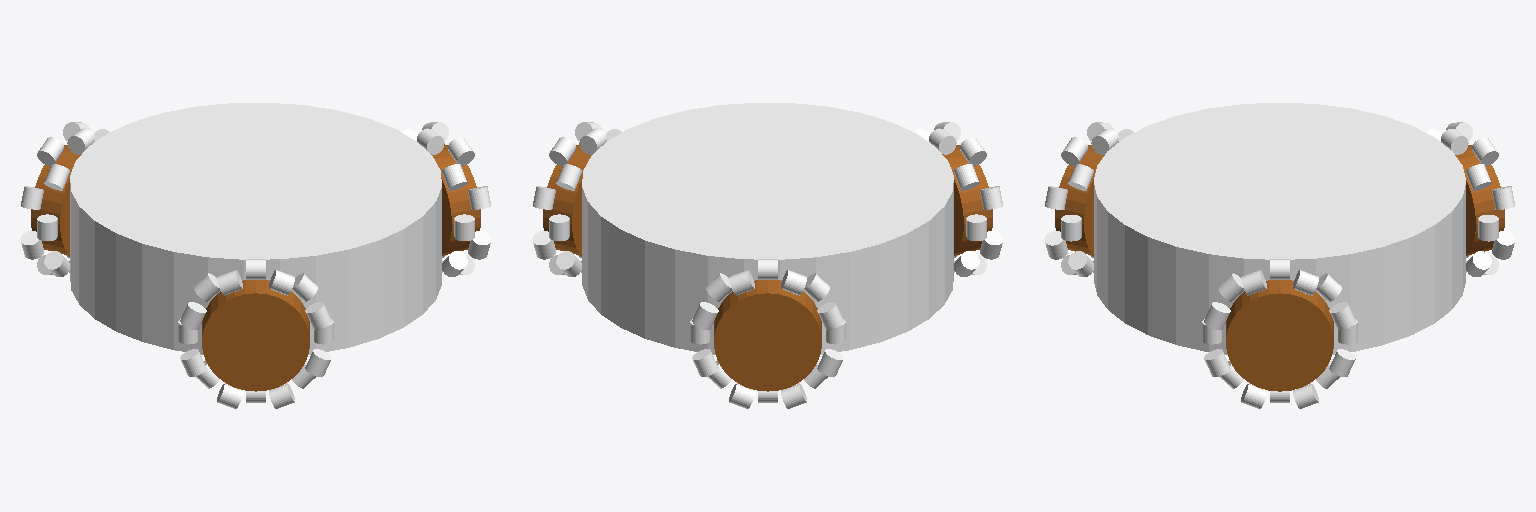
--- Render facts (derived) ---
The picture shows the robot from 3 angles, left to right: view 1: azimuth 30°, elevation 25°; view 2: azimuth 150°, elevation 25°; view 3: azimuth 270°, elevation 25°; orthographic projection.
Model omni_robot with 52 links and 51 joints (51 continuous), rooted at base_link, posed every joint at zero.
Visible links, largest first — view 1: base_link, wheel_240, wheel_0, wheel_120; view 2: base_link, wheel_120, wheel_0, wheel_240; view 3: base_link, wheel_0, wheel_120, wheel_240.
Link boxes in pixels (x1=…): base_link: x1=70, y1=103, x2=441, y2=354; wheel_240: x1=202, y1=280, x2=309, y2=391; wheel_0: x1=431, y1=144, x2=480, y2=255; wheel_120: x1=31, y1=145, x2=81, y2=255; base_link: x1=582, y1=103, x2=953, y2=354; wheel_120: x1=714, y1=280, x2=821, y2=391; wheel_0: x1=543, y1=144, x2=592, y2=255; wheel_240: x1=942, y1=145, x2=992, y2=255; base_link: x1=1094, y1=103, x2=1465, y2=354; wheel_0: x1=1226, y1=280, x2=1333, y2=391; wheel_120: x1=1455, y1=145, x2=1504, y2=255; wheel_240: x1=1055, y1=145, x2=1104, y2=255.
Bounding box of the posed robot: 0.247 × 0.2779 × 0.092 m (x, y, z).
Geometry: primitives only (box / cylinder / sphere), no mesh files.

The robot description file, URDF, robot "omni_robot":
<?xml version="1.0" ?>
<!-- =================================================================================== -->
<!-- |    This document was autogenerated by xacro from omni_1.urdf.xacro              | -->
<!-- |    EDITING THIS FILE BY HAND IS NOT RECOMMENDED                                 | -->
<!-- =================================================================================== -->
<robot name="omni_robot">
  <!-- MATERIAL DEFINITIONS -->
  <material name="white">
    <color rgba="1 1 1 1"/>
    <!-- White -->
  </material>
  <material name="copper">
    <color rgba="0.72 0.45 0.20 1"/>
    <!-- Copper -->
  </material>
  <!-- BASE LINK (CYLINDER) -->
  <link name="base_link">
    <visual>
      <origin rpy="0 0 0" xyz="0 0 0"/>
      <geometry>
        <cylinder length="0.064" radius="0.11"/>
        <!-- 220mm dia, 64mm height -->
      </geometry>
      <material name="white"/>
    </visual>
    <collision>
      <geometry>
        <cylinder length="0.064" radius="0.11"/>
      </geometry>
    </collision>
    <inertial>
      <mass value="1.0"/>
      <inertia ixx="0.001" ixy="0" ixz="0" iyy="0.001" iyz="0" izz="0.001"/>
    </inertial>
  </link>
  <!-- Main Wheel -->
  <link name="wheel_0">
    <visual>
      <origin rpy="0 0 0" xyz="0 0 0"/>
      <!-- Wheel rotation -->
      <geometry>
        <cylinder length="0.02" radius="0.032"/>
        <!-- 64mm dia, 20mm thick -->
      </geometry>
      <material name="copper"/>
    </visual>
    <collision>
      <geometry>
        <cylinder length="0.02" radius="0.04"/>
      </geometry>
    </collision>
    <inertial>
      <mass value="0.15"/>
      <inertia ixx="0.0002" ixy="0" ixz="0" iyy="0.0002" iyz="0" izz="0.0002"/>
    </inertial>
  </link>
  <!-- Joint to Base -->
  <joint name="wheel_0_joint" type="continuous">
    <parent link="base_link"/>
    <child link="wheel_0"/>
    <origin rpy="0 1.5708 0" xyz="0.125 0 -0.01"/>
    <axis xyz="0 0 1"/>
    <limit effort="10.0" velocity="10.0"/>
    <dynamics damping="0.1" friction="0.01"/>
  </joint>
  <!-- Roller 0: 0°, inside -->
  <link name="wheel_0_roller_0">
    <visual>
      <origin rpy="0 0 0" xyz="0 0 0"/>
      <geometry>
        <cylinder length="0.012" radius="0.006"/>
      </geometry>
      <material name="white"/>
    </visual>
    <collision>
      <geometry>
        <cylinder length="0.012" radius="0.006"/>
      </geometry>
    </collision>
    <inertial>
      <mass value="0.01"/>
      <inertia ixx="0.00001" ixy="0" ixz="0" iyy="0.00001" iyz="0" izz="0.00001"/>
    </inertial>
  </link>
  <joint name="wheel_0_roller_0_joint" type="continuous">
    <parent link="wheel_0"/>
    <child link="wheel_0_roller_0"/>
    <origin rpy="0 1.5708 0" xyz="0 0.04 -0.006"/>
    <axis xyz="0 0 1"/>
    <!-- Roller spins around its own axis -->
    <limit effort="0.0" velocity="0.0"/>
    <dynamics damping="0.01" friction="0.01"/>
  </joint>
  <!-- Roller 1: 22.5°, outnside -->
  <link name="wheel_0_roller_1">
    <visual>
      <origin rpy="0 0 0" xyz="0 0 0"/>
      <geometry>
        <cylinder length="0.012" radius="0.006"/>
      </geometry>
      <material name="white"/>
    </visual>
    <collision>
      <geometry>
        <cylinder length="0.012" radius="0.006"/>
      </geometry>
    </collision>
    <inertial>
      <mass value="0.01"/>
      <inertia ixx="0.00001" ixy="0" ixz="0" iyy="0.00001" iyz="0" izz="0.00001"/>
    </inertial>
  </link>
  <joint name="wheel_0_roller_1_joint" type="continuous">
    <parent link="wheel_0"/>
    <child link="wheel_0_roller_1"/>
    <origin rpy="0.3927 1.5708 0" xyz="0.015307200000000002 0.0369552 0.006"/>
    <axis xyz="0 0 1"/>
    <!-- Roller spins around its own axis -->
    <limit effort="0.0" velocity="0.0"/>
    <dynamics damping="0.01" friction="0.01"/>
  </joint>
  <!-- Roller 2: 45°, inside -->
  <link name="wheel_0_roller_2">
    <visual>
      <origin rpy="0 0 0" xyz="0 0 0"/>
      <geometry>
        <cylinder length="0.012" radius="0.006"/>
      </geometry>
      <material name="white"/>
    </visual>
    <collision>
      <geometry>
        <cylinder length="0.012" radius="0.006"/>
      </geometry>
    </collision>
    <inertial>
      <mass value="0.01"/>
      <inertia ixx="0.00001" ixy="0" ixz="0" iyy="0.00001" iyz="0" izz="0.00001"/>
    </inertial>
  </link>
  <joint name="wheel_0_roller_2_joint" type="continuous">
    <parent link="wheel_0"/>
    <child link="wheel_0_roller_2"/>
    <origin rpy="0.7854 1.5708 0" xyz="0.028284 0.028284 -0.006"/>
    <axis xyz="0 0 1"/>
    <limit effort="0.0" velocity="0.0"/>
    <dynamics damping="0.01" friction="0.01"/>
  </joint>
  <!-- Roller 3: 67.5°, outside -->
  <link name="wheel_0_roller_3">
    <visual>
      <origin rpy="0 0 0" xyz="0 0 0"/>
      <geometry>
        <cylinder length="0.012" radius="0.006"/>
      </geometry>
      <material name="white"/>
    </visual>
    <collision>
      <geometry>
        <cylinder length="0.012" radius="0.006"/>
      </geometry>
    </collision>
    <inertial>
      <mass value="0.01"/>
      <inertia ixx="0.00001" ixy="0" ixz="0" iyy="0.00001" iyz="0" izz="0.00001"/>
    </inertial>
  </link>
  <joint name="wheel_0_roller_3_joint" type="continuous">
    <parent link="wheel_0"/>
    <child link="wheel_0_roller_3"/>
    <origin rpy="1.1781 1.5708 0" xyz="0.0369552 0.015307200000000002 0.006"/>
    <axis xyz="0 0 1"/>
    <limit effort="0.0" velocity="0.0"/>
    <dynamics damping="0.01" friction="0.01"/>
  </joint>
  <!-- Roller 4: 90°, inside -->
  <link name="wheel_0_roller_4">
    <visual>
      <origin rpy="0 0 0" xyz="0 0 0"/>
      <geometry>
        <cylinder length="0.012" radius="0.006"/>
      </geometry>
      <material name="white"/>
    </visual>
    <collision>
      <geometry>
        <cylinder length="0.012" radius="0.006"/>
      </geometry>
    </collision>
    <inertial>
      <mass value="0.01"/>
      <inertia ixx="0.00001" ixy="0" ixz="0" iyy="0.00001" iyz="0" izz="0.00001"/>
    </inertial>
  </link>
  <joint name="wheel_0_roller_4_joint" type="continuous">
    <parent link="wheel_0"/>
    <child link="wheel_0_roller_4"/>
    <origin rpy="1.5708 1.5708 0" xyz="0.04 0 -0.006"/>
    <axis xyz="0 0 1"/>
    <limit effort="0.0" velocity="0.0"/>
    <dynamics damping="0.01" friction="0.01"/>
  </joint>
  <!-- Roller 5: 112.5°, outside -->
  <link name="wheel_0_roller_5">
    <visual>
      <origin rpy="0 0 0" xyz="0 0 0"/>
      <geometry>
        <cylinder length="0.012" radius="0.006"/>
      </geometry>
      <material name="white"/>
    </visual>
    <collision>
      <geometry>
        <cylinder length="0.012" radius="0.006"/>
      </geometry>
    </collision>
    <inertial>
      <mass value="0.01"/>
      <inertia ixx="0.00001" ixy="0" ixz="0" iyy="0.00001" iyz="0" izz="0.00001"/>
    </inertial>
  </link>
  <joint name="wheel_0_roller_5_joint" type="continuous">
    <parent link="wheel_0"/>
    <child link="wheel_0_roller_5"/>
    <origin rpy="1.9635 1.5708 0" xyz="0.0369552 -0.015307200000000002 0.006"/>
    <axis xyz="0 0 1"/>
    <limit effort="0.0" velocity="0.0"/>
    <dynamics damping="0.01" friction="0.01"/>
  </joint>
  <!-- Roller 6: 135°, inside -->
  <link name="wheel_0_roller_6">
    <visual>
      <origin rpy="0 0 0" xyz="0 0 0"/>
      <geometry>
        <cylinder length="0.012" radius="0.006"/>
      </geometry>
      <material name="white"/>
    </visual>
    <collision>
      <geometry>
        <cylinder length="0.012" radius="0.006"/>
      </geometry>
    </collision>
    <inertial>
      <mass value="0.01"/>
      <inertia ixx="0.00001" ixy="0" ixz="0" iyy="0.00001" iyz="0" izz="0.00001"/>
    </inertial>
  </link>
  <joint name="wheel_0_roller_6_joint" type="continuous">
    <parent link="wheel_0"/>
    <child link="wheel_0_roller_6"/>
    <origin rpy="2.3562 1.5708 0" xyz="0.028284 -0.028284 -0.006"/>
    <axis xyz="0 0 1"/>
    <limit effort="0.0" velocity="0.0"/>
    <dynamics damping="0.01" friction="0.01"/>
  </joint>
  <!-- Roller 7: 157.5°, outside -->
  <link name="wheel_0_roller_7">
    <visual>
      <origin rpy="0 0 0" xyz="0 0 0"/>
      <geometry>
        <cylinder length="0.012" radius="0.006"/>
      </geometry>
      <material name="white"/>
    </visual>
    <collision>
      <geometry>
        <cylinder length="0.012" radius="0.006"/>
      </geometry>
    </collision>
    <inertial>
      <mass value="0.01"/>
      <inertia ixx="0.00001" ixy="0" ixz="0" iyy="0.00001" iyz="0" izz="0.00001"/>
    </inertial>
  </link>
  <joint name="wheel_0_roller_7_joint" type="continuous">
    <parent link="wheel_0"/>
    <child link="wheel_0_roller_7"/>
    <origin rpy="2.7489 1.5708 0" xyz="0.015307200000000002 -0.0369552 0.006"/>
    <axis xyz="0 0 1"/>
    <limit effort="0.0" velocity="0.0"/>
    <dynamics damping="0.01" friction="0.01"/>
  </joint>
  <!-- Roller 8: 180°, inside -->
  <link name="wheel_0_roller_8">
    <visual>
      <origin rpy="0 0 0" xyz="0 0 0"/>
      <geometry>
        <cylinder length="0.012" radius="0.006"/>
      </geometry>
      <material name="white"/>
    </visual>
    <collision>
      <geometry>
        <cylinder length="0.012" radius="0.006"/>
      </geometry>
    </collision>
    <inertial>
      <mass value="0.01"/>
      <inertia ixx="0.00001" ixy="0" ixz="0" iyy="0.00001" iyz="0" izz="0.00001"/>
    </inertial>
  </link>
  <joint name="wheel_0_roller_8_joint" type="continuous">
    <parent link="wheel_0"/>
    <child link="wheel_0_roller_8"/>
    <origin rpy="0 1.5708 0" xyz="0 -0.04 -0.006"/>
    <axis xyz="0 0 1"/>
    <limit effort="0.0" velocity="0.0"/>
    <dynamics damping="0.01" friction="0.01"/>
  </joint>
  <!-- Roller 9: 202.5°, outside -->
  <link name="wheel_0_roller_9">
    <visual>
      <origin rpy="0 0 0" xyz="0 0 0"/>
      <geometry>
        <cylinder length="0.012" radius="0.006"/>
      </geometry>
      <material name="white"/>
    </visual>
    <collision>
      <geometry>
        <cylinder length="0.012" radius="0.006"/>
      </geometry>
    </collision>
    <inertial>
      <mass value="0.01"/>
      <inertia ixx="0.00001" ixy="0" ixz="0" iyy="0.00001" iyz="0" izz="0.00001"/>
    </inertial>
  </link>
  <joint name="wheel_0_roller_9_joint" type="continuous">
    <parent link="wheel_0"/>
    <child link="wheel_0_roller_9"/>
    <origin rpy="0.3927 1.5708 0" xyz="-0.015307200000000002 -0.0369552 0.006"/>
    <axis xyz="0 0 1"/>
    <limit effort="0.0" velocity="0.0"/>
    <dynamics damping="0.01" friction="0.01"/>
  </joint>
  <!-- Roller 10: 225°, inside -->
  <link name="wheel_0_roller_10">
    <visual>
      <origin rpy="0 0 0" xyz="0 0 0"/>
      <geometry>
        <cylinder length="0.012" radius="0.006"/>
      </geometry>
      <material name="white"/>
    </visual>
    <collision>
      <geometry>
        <cylinder length="0.012" radius="0.006"/>
      </geometry>
    </collision>
    <inertial>
      <mass value="0.01"/>
      <inertia ixx="0.00001" ixy="0" ixz="0" iyy="0.00001" iyz="0" izz="0.00001"/>
    </inertial>
  </link>
  <joint name="wheel_0_roller_10_joint" type="continuous">
    <parent link="wheel_0"/>
    <child link="wheel_0_roller_10"/>
    <origin rpy="0.7854 1.5708 0" xyz="-0.028284 -0.028284 -0.006"/>
    <axis xyz="0 0 1"/>
    <limit effort="0.0" velocity="0.0"/>
    <dynamics damping="0.01" friction="0.01"/>
  </joint>
  <!-- Roller 11: 247.5°, outside -->
  <link name="wheel_0_roller_11">
    <visual>
      <origin rpy="0 0 0" xyz="0 0 0"/>
      <geometry>
        <cylinder length="0.012" radius="0.006"/>
      </geometry>
      <material name="white"/>
    </visual>
    <collision>
      <geometry>
        <cylinder length="0.012" radius="0.006"/>
      </geometry>
    </collision>
    <inertial>
      <mass value="0.01"/>
      <inertia ixx="0.00001" ixy="0" ixz="0" iyy="0.00001" iyz="0" izz="0.00001"/>
    </inertial>
  </link>
  <joint name="wheel_0_roller_11_joint" type="continuous">
    <parent link="wheel_0"/>
    <child link="wheel_0_roller_11"/>
    <origin rpy="1.1781 1.5708 0" xyz="-0.0369552 -0.015307200000000002 0.006"/>
    <axis xyz="0 0 1"/>
    <limit effort="0.0" velocity="0.0"/>
    <dynamics damping="0.01" friction="0.01"/>
  </joint>
  <!-- Roller 12: 270°, inside -->
  <link name="wheel_0_roller_12">
    <visual>
      <origin rpy="0 0 0" xyz="0 0 0"/>
      <geometry>
        <cylinder length="0.012" radius="0.006"/>
      </geometry>
      <material name="white"/>
    </visual>
    <collision>
      <geometry>
        <cylinder length="0.012" radius="0.006"/>
      </geometry>
    </collision>
    <inertial>
      <mass value="0.01"/>
      <inertia ixx="0.00001" ixy="0" ixz="0" iyy="0.00001" iyz="0" izz="0.00001"/>
    </inertial>
  </link>
  <joint name="wheel_0_roller_12_joint" type="continuous">
    <parent link="wheel_0"/>
    <child link="wheel_0_roller_12"/>
    <origin rpy="1.5708 1.5708 0" xyz="-0.04 0 -0.006"/>
    <axis xyz="0 0 1"/>
    <limit effort="0.0" velocity="0.0"/>
    <dynamics damping="0.01" friction="0.01"/>
  </joint>
  <!-- Roller 13: 292.5°, outside -->
  <link name="wheel_0_roller_13">
    <visual>
      <origin rpy="0 0 0" xyz="0 0 0"/>
      <geometry>
        <cylinder length="0.012" radius="0.006"/>
      </geometry>
      <material name="white"/>
    </visual>
    <collision>
      <geometry>
        <cylinder length="0.012" radius="0.006"/>
      </geometry>
    </collision>
    <inertial>
      <mass value="0.01"/>
      <inertia ixx="0.00001" ixy="0" ixz="0" iyy="0.00001" iyz="0" izz="0.00001"/>
    </inertial>
  </link>
  <joint name="wheel_0_roller_13_joint" type="continuous">
    <parent link="wheel_0"/>
    <child link="wheel_0_roller_13"/>
    <origin rpy="1.9635 1.5708 0" xyz="-0.0369552 0.015307200000000002 0.006"/>
    <axis xyz="0 0 1"/>
    <limit effort="0.0" velocity="0.0"/>
    <dynamics damping="0.01" friction="0.01"/>
  </joint>
  <!-- Roller 14: 315°, inside -->
  <link name="wheel_0_roller_14">
    <visual>
      <origin rpy="0 0 0" xyz="0 0 0"/>
      <geometry>
        <cylinder length="0.012" radius="0.006"/>
      </geometry>
      <material name="white"/>
    </visual>
    <collision>
      <geometry>
        <cylinder length="0.012" radius="0.006"/>
      </geometry>
    </collision>
    <inertial>
      <mass value="0.01"/>
      <inertia ixx="0.00001" ixy="0" ixz="0" iyy="0.00001" iyz="0" izz="0.00001"/>
    </inertial>
  </link>
  <joint name="wheel_0_roller_14_joint" type="continuous">
    <parent link="wheel_0"/>
    <child link="wheel_0_roller_14"/>
    <origin rpy="2.3562 1.5708 0" xyz="-0.028284 0.028284 -0.006"/>
    <axis xyz="0 0 1"/>
    <limit effort="0.0" velocity="0.0"/>
    <dynamics damping="0.01" friction="0.01"/>
  </joint>
  <!-- Roller 15: 337.5°, outside -->
  <link name="wheel_0_roller_15">
    <visual>
      <origin rpy="0 0 0" xyz="0 0 0"/>
      <geometry>
        <cylinder length="0.012" radius="0.006"/>
      </geometry>
      <material name="white"/>
    </visual>
    <collision>
      <geometry>
        <cylinder length="0.012" radius="0.006"/>
      </geometry>
    </collision>
    <inertial>
      <mass value="0.01"/>
      <inertia ixx="0.00001" ixy="0" ixz="0" iyy="0.00001" iyz="0" izz="0.00001"/>
    </inertial>
  </link>
  <joint name="wheel_0_roller_15_joint" type="continuous">
    <parent link="wheel_0"/>
    <child link="wheel_0_roller_15"/>
    <origin rpy="2.7489 1.5708 0" xyz="-0.015307200000000002 0.0369552 0.006"/>
    <axis xyz="0 0 1"/>
    <limit effort="0.0" velocity="0.0"/>
    <dynamics damping="0.01" friction="0.01"/>
  </joint>
  <!-- Main Wheel -->
  <link name="wheel_120">
    <visual>
      <origin rpy="0 0 0" xyz="0 0 0"/>
      <!-- Wheel rotation -->
      <geometry>
        <cylinder length="0.02" radius="0.032"/>
        <!-- 64mm dia, 20mm thick -->
      </geometry>
      <material name="copper"/>
    </visual>
    <collision>
      <geometry>
        <cylinder length="0.02" radius="0.04"/>
      </geometry>
    </collision>
    <inertial>
      <mass value="0.15"/>
      <inertia ixx="0.0002" ixy="0" ixz="0" iyy="0.0002" iyz="0" izz="0.0002"/>
    </inertial>
  </link>
  <!-- Joint to Base -->
  <joint name="wheel_120_joint" type="continuous">
    <parent link="base_link"/>
    <child link="wheel_120"/>
    <origin rpy="0 1.5708 2.0944" xyz="-0.0625 0.10825 -0.01"/>
    <axis xyz="0 0 1"/>
    <limit effort="10.0" velocity="10.0"/>
    <dynamics damping="0.1" friction="0.01"/>
  </joint>
  <!-- Roller 0: 0°, inside -->
  <link name="wheel_120_roller_0">
    <visual>
      <origin rpy="0 0 0" xyz="0 0 0"/>
      <geometry>
        <cylinder length="0.012" radius="0.006"/>
      </geometry>
      <material name="white"/>
    </visual>
    <collision>
      <geometry>
        <cylinder length="0.012" radius="0.006"/>
      </geometry>
    </collision>
    <inertial>
      <mass value="0.01"/>
      <inertia ixx="0.00001" ixy="0" ixz="0" iyy="0.00001" iyz="0" izz="0.00001"/>
    </inertial>
  </link>
  <joint name="wheel_120_roller_0_joint" type="continuous">
    <parent link="wheel_120"/>
    <child link="wheel_120_roller_0"/>
    <origin rpy="0 1.5708 0" xyz="0 0.04 -0.006"/>
    <axis xyz="0 0 1"/>
    <!-- Roller spins around its own axis -->
    <limit effort="0.0" velocity="0.0"/>
    <dynamics damping="0.01" friction="0.01"/>
  </joint>
  <!-- Roller 1: 22.5°, outnside -->
  <link name="wheel_120_roller_1">
    <visual>
      <origin rpy="0 0 0" xyz="0 0 0"/>
      <geometry>
        <cylinder length="0.012" radius="0.006"/>
      </geometry>
      <material name="white"/>
    </visual>
    <collision>
      <geometry>
        <cylinder length="0.012" radius="0.006"/>
      </geometry>
    </collision>
    <inertial>
      <mass value="0.01"/>
      <inertia ixx="0.00001" ixy="0" ixz="0" iyy="0.00001" iyz="0" izz="0.00001"/>
    </inertial>
  </link>
  <joint name="wheel_120_roller_1_joint" type="continuous">
    <parent link="wheel_120"/>
    <child link="wheel_120_roller_1"/>
    <origin rpy="0.3927 1.5708 0" xyz="0.015307200000000002 0.0369552 0.006"/>
    <axis xyz="0 0 1"/>
    <!-- Roller spins around its own axis -->
    <limit effort="0.0" velocity="0.0"/>
    <dynamics damping="0.01" friction="0.01"/>
  </joint>
  <!-- Roller 2: 45°, inside -->
  <link name="wheel_120_roller_2">
    <visual>
      <origin rpy="0 0 0" xyz="0 0 0"/>
      <geometry>
        <cylinder length="0.012" radius="0.006"/>
      </geometry>
      <material name="white"/>
    </visual>
    <collision>
      <geometry>
        <cylinder length="0.012" radius="0.006"/>
      </geometry>
    </collision>
    <inertial>
      <mass value="0.01"/>
      <inertia ixx="0.00001" ixy="0" ixz="0" iyy="0.00001" iyz="0" izz="0.00001"/>
    </inertial>
  </link>
  <joint name="wheel_120_roller_2_joint" type="continuous">
    <parent link="wheel_120"/>
    <child link="wheel_120_roller_2"/>
    <origin rpy="0.7854 1.5708 0" xyz="0.028284 0.028284 -0.006"/>
    <axis xyz="0 0 1"/>
    <limit effort="0.0" velocity="0.0"/>
    <dynamics damping="0.01" friction="0.01"/>
  </joint>
  <!-- Roller 3: 67.5°, outside -->
  <link name="wheel_120_roller_3">
    <visual>
      <origin rpy="0 0 0" xyz="0 0 0"/>
      <geometry>
        <cylinder length="0.012" radius="0.006"/>
      </geometry>
      <material name="white"/>
    </visual>
    <collision>
      <geometry>
        <cylinder length="0.012" radius="0.006"/>
      </geometry>
    </collision>
    <inertial>
      <mass value="0.01"/>
      <inertia ixx="0.00001" ixy="0" ixz="0" iyy="0.00001" iyz="0" izz="0.00001"/>
    </inertial>
  </link>
  <joint name="wheel_120_roller_3_joint" type="continuous">
    <parent link="wheel_120"/>
    <child link="wheel_120_roller_3"/>
    <origin rpy="1.1781 1.5708 0" xyz="0.0369552 0.015307200000000002 0.006"/>
    <axis xyz="0 0 1"/>
    <limit effort="0.0" velocity="0.0"/>
    <dynamics damping="0.01" friction="0.01"/>
  </joint>
  <!-- Roller 4: 90°, inside -->
  <link name="wheel_120_roller_4">
    <visual>
      <origin rpy="0 0 0" xyz="0 0 0"/>
      <geometry>
        <cylinder length="0.012" radius="0.006"/>
      </geometry>
      <material name="white"/>
    </visual>
    <collision>
      <geometry>
        <cylinder length="0.012" radius="0.006"/>
      </geometry>
    </collision>
    <inertial>
      <mass value="0.01"/>
      <inertia ixx="0.00001" ixy="0" ixz="0" iyy="0.00001" iyz="0" izz="0.00001"/>
    </inertial>
  </link>
  <joint name="wheel_120_roller_4_joint" type="continuous">
    <parent link="wheel_120"/>
    <child link="wheel_120_roller_4"/>
    <origin rpy="1.5708 1.5708 0" xyz="0.04 0 -0.006"/>
    <axis xyz="0 0 1"/>
    <limit effort="0.0" velocity="0.0"/>
    <dynamics damping="0.01" friction="0.01"/>
  </joint>
  <!-- Roller 5: 112.5°, outside -->
  <link name="wheel_120_roller_5">
    <visual>
      <origin rpy="0 0 0" xyz="0 0 0"/>
      <geometry>
        <cylinder length="0.012" radius="0.006"/>
      </geometry>
      <material name="white"/>
    </visual>
    <collision>
      <geometry>
        <cylinder length="0.012" radius="0.006"/>
      </geometry>
    </collision>
    <inertial>
      <mass value="0.01"/>
      <inertia ixx="0.00001" ixy="0" ixz="0" iyy="0.00001" iyz="0" izz="0.00001"/>
    </inertial>
  </link>
  <joint name="wheel_120_roller_5_joint" type="continuous">
    <parent link="wheel_120"/>
    <child link="wheel_120_roller_5"/>
    <origin rpy="1.9635 1.5708 0" xyz="0.0369552 -0.015307200000000002 0.006"/>
    <axis xyz="0 0 1"/>
    <limit effort="0.0" velocity="0.0"/>
    <dynamics damping="0.01" friction="0.01"/>
  </joint>
  <!-- Roller 6: 135°, inside -->
  <link name="wheel_120_roller_6">
    <visual>
      <origin rpy="0 0 0" xyz="0 0 0"/>
      <geometry>
        <cylinder length="0.012" radius="0.006"/>
      </geometry>
      <material name="white"/>
    </visual>
    <collision>
      <geometry>
        <cylinder length="0.012" radius="0.006"/>
      </geometry>
    </collision>
    <inertial>
      <mass value="0.01"/>
      <inertia ixx="0.00001" ixy="0" ixz="0" iyy="0.00001" iyz="0" izz="0.00001"/>
    </inertial>
  </link>
  <joint name="wheel_120_roller_6_joint" type="continuous">
    <parent link="wheel_120"/>
    <child link="wheel_120_roller_6"/>
    <origin rpy="2.3562 1.5708 0" xyz="0.028284 -0.028284 -0.006"/>
    <axis xyz="0 0 1"/>
    <limit effort="0.0" velocity="0.0"/>
    <dynamics damping="0.01" friction="0.01"/>
  </joint>
  <!-- Roller 7: 157.5°, outside -->
  <link name="wheel_120_roller_7">
    <visual>
      <origin rpy="0 0 0" xyz="0 0 0"/>
      <geometry>
        <cylinder length="0.012" radius="0.006"/>
      </geometry>
      <material name="white"/>
    </visual>
    <collision>
      <geometry>
        <cylinder length="0.012" radius="0.006"/>
      </geometry>
    </collision>
    <inertial>
      <mass value="0.01"/>
      <inertia ixx="0.00001" ixy="0" ixz="0" iyy="0.00001" iyz="0" izz="0.00001"/>
    </inertial>
  </link>
  <joint name="wheel_120_roller_7_joint" type="continuous">
    <parent link="wheel_120"/>
    <child link="wheel_120_roller_7"/>
    <origin rpy="2.7489 1.5708 0" xyz="0.015307200000000002 -0.0369552 0.006"/>
    <axis xyz="0 0 1"/>
    <limit effort="0.0" velocity="0.0"/>
    <dynamics damping="0.01" friction="0.01"/>
  </joint>
  <!-- Roller 8: 180°, inside -->
  <link name="wheel_120_roller_8">
    <visual>
      <origin rpy="0 0 0" xyz="0 0 0"/>
      <geometry>
        <cylinder length="0.012" radius="0.006"/>
      </geometry>
      <material name="white"/>
    </visual>
    <collision>
      <geometry>
        <cylinder length="0.012" radius="0.006"/>
      </geometry>
    </collision>
    <inertial>
      <mass value="0.01"/>
      <inertia ixx="0.00001" ixy="0" ixz="0" iyy="0.00001" iyz="0" izz="0.00001"/>
    </inertial>
  </link>
  <joint name="wheel_120_roller_8_joint" type="continuous">
    <parent link="wheel_120"/>
    <child link="wheel_120_roller_8"/>
    <origin rpy="0 1.5708 0" xyz="0 -0.04 -0.006"/>
    <axis xyz="0 0 1"/>
    <limit effort="0.0" velocity="0.0"/>
    <dynamics damping="0.01" friction="0.01"/>
  </joint>
  <!-- Roller 9: 202.5°, outside -->
  <link name="wheel_120_roller_9">
    <visual>
      <origin rpy="0 0 0" xyz="0 0 0"/>
      <geometry>
        <cylinder length="0.012" radius="0.006"/>
      </geometry>
      <material name="white"/>
    </visual>
    <collision>
      <geometry>
        <cylinder length="0.012" radius="0.006"/>
      </geometry>
    </collision>
    <inertial>
      <mass value="0.01"/>
      <inertia ixx="0.00001" ixy="0" ixz="0" iyy="0.00001" iyz="0" izz="0.00001"/>
    </inertial>
  </link>
  <joint name="wheel_120_roller_9_joint" type="continuous">
    <parent link="wheel_120"/>
    <child link="wheel_120_roller_9"/>
    <origin rpy="0.3927 1.5708 0" xyz="-0.015307200000000002 -0.0369552 0.006"/>
    <axis xyz="0 0 1"/>
    <limit effort="0.0" velocity="0.0"/>
    <dynamics damping="0.01" friction="0.01"/>
  </joint>
  <!-- Roller 10: 225°, inside -->
  <link name="wheel_120_roller_10">
    <visual>
      <origin rpy="0 0 0" xyz="0 0 0"/>
      <geometry>
        <cylinder length="0.012" radius="0.006"/>
      </geometry>
      <material name="white"/>
    </visual>
    <collision>
      <geometry>
        <cylinder length="0.012" radius="0.006"/>
      </geometry>
    </collision>
    <inertial>
      <mass value="0.01"/>
      <inertia ixx="0.00001" ixy="0" ixz="0" iyy="0.00001" iyz="0" izz="0.00001"/>
    </inertial>
  </link>
  <joint name="wheel_120_roller_10_joint" type="continuous">
    <parent link="wheel_120"/>
    <child link="wheel_120_roller_10"/>
    <origin rpy="0.7854 1.5708 0" xyz="-0.028284 -0.028284 -0.006"/>
    <axis xyz="0 0 1"/>
    <limit effort="0.0" velocity="0.0"/>
    <dynamics damping="0.01" friction="0.01"/>
  </joint>
  <!-- Roller 11: 247.5°, outside -->
  <link name="wheel_120_roller_11">
    <visual>
      <origin rpy="0 0 0" xyz="0 0 0"/>
      <geometry>
        <cylinder length="0.012" radius="0.006"/>
      </geometry>
      <material name="white"/>
    </visual>
    <collision>
      <geometry>
        <cylinder length="0.012" radius="0.006"/>
      </geometry>
    </collision>
    <inertial>
      <mass value="0.01"/>
      <inertia ixx="0.00001" ixy="0" ixz="0" iyy="0.00001" iyz="0" izz="0.00001"/>
    </inertial>
  </link>
  <joint name="wheel_120_roller_11_joint" type="continuous">
    <parent link="wheel_120"/>
    <child link="wheel_120_roller_11"/>
    <origin rpy="1.1781 1.5708 0" xyz="-0.0369552 -0.015307200000000002 0.006"/>
    <axis xyz="0 0 1"/>
    <limit effort="0.0" velocity="0.0"/>
    <dynamics damping="0.01" friction="0.01"/>
  </joint>
  <!-- Roller 12: 270°, inside -->
  <link name="wheel_120_roller_12">
    <visual>
      <origin rpy="0 0 0" xyz="0 0 0"/>
      <geometry>
        <cylinder length="0.012" radius="0.006"/>
      </geometry>
      <material name="white"/>
    </visual>
    <collision>
      <geometry>
        <cylinder length="0.012" radius="0.006"/>
      </geometry>
    </collision>
    <inertial>
      <mass value="0.01"/>
      <inertia ixx="0.00001" ixy="0" ixz="0" iyy="0.00001" iyz="0" izz="0.00001"/>
    </inertial>
  </link>
  <joint name="wheel_120_roller_12_joint" type="continuous">
    <parent link="wheel_120"/>
    <child link="wheel_120_roller_12"/>
    <origin rpy="1.5708 1.5708 0" xyz="-0.04 0 -0.006"/>
    <axis xyz="0 0 1"/>
    <limit effort="0.0" velocity="0.0"/>
    <dynamics damping="0.01" friction="0.01"/>
  </joint>
  <!-- Roller 13: 292.5°, outside -->
  <link name="wheel_120_roller_13">
    <visual>
      <origin rpy="0 0 0" xyz="0 0 0"/>
      <geometry>
        <cylinder length="0.012" radius="0.006"/>
      </geometry>
      <material name="white"/>
    </visual>
    <collision>
      <geometry>
        <cylinder length="0.012" radius="0.006"/>
      </geometry>
    </collision>
    <inertial>
      <mass value="0.01"/>
      <inertia ixx="0.00001" ixy="0" ixz="0" iyy="0.00001" iyz="0" izz="0.00001"/>
    </inertial>
  </link>
  <joint name="wheel_120_roller_13_joint" type="continuous">
    <parent link="wheel_120"/>
    <child link="wheel_120_roller_13"/>
    <origin rpy="1.9635 1.5708 0" xyz="-0.0369552 0.015307200000000002 0.006"/>
    <axis xyz="0 0 1"/>
    <limit effort="0.0" velocity="0.0"/>
    <dynamics damping="0.01" friction="0.01"/>
  </joint>
  <!-- Roller 14: 315°, inside -->
  <link name="wheel_120_roller_14">
    <visual>
      <origin rpy="0 0 0" xyz="0 0 0"/>
      <geometry>
        <cylinder length="0.012" radius="0.006"/>
      </geometry>
      <material name="white"/>
    </visual>
    <collision>
      <geometry>
        <cylinder length="0.012" radius="0.006"/>
      </geometry>
    </collision>
    <inertial>
      <mass value="0.01"/>
      <inertia ixx="0.00001" ixy="0" ixz="0" iyy="0.00001" iyz="0" izz="0.00001"/>
    </inertial>
  </link>
  <joint name="wheel_120_roller_14_joint" type="continuous">
    <parent link="wheel_120"/>
    <child link="wheel_120_roller_14"/>
    <origin rpy="2.3562 1.5708 0" xyz="-0.028284 0.028284 -0.006"/>
    <axis xyz="0 0 1"/>
    <limit effort="0.0" velocity="0.0"/>
    <dynamics damping="0.01" friction="0.01"/>
  </joint>
  <!-- Roller 15: 337.5°, outside -->
  <link name="wheel_120_roller_15">
    <visual>
      <origin rpy="0 0 0" xyz="0 0 0"/>
      <geometry>
        <cylinder length="0.012" radius="0.006"/>
      </geometry>
      <material name="white"/>
    </visual>
    <collision>
      <geometry>
        <cylinder length="0.012" radius="0.006"/>
      </geometry>
    </collision>
    <inertial>
      <mass value="0.01"/>
      <inertia ixx="0.00001" ixy="0" ixz="0" iyy="0.00001" iyz="0" izz="0.00001"/>
    </inertial>
  </link>
  <joint name="wheel_120_roller_15_joint" type="continuous">
    <parent link="wheel_120"/>
    <child link="wheel_120_roller_15"/>
    <origin rpy="2.7489 1.5708 0" xyz="-0.015307200000000002 0.0369552 0.006"/>
    <axis xyz="0 0 1"/>
    <limit effort="0.0" velocity="0.0"/>
    <dynamics damping="0.01" friction="0.01"/>
  </joint>
  <!-- Main Wheel -->
  <link name="wheel_240">
    <visual>
      <origin rpy="0 0 0" xyz="0 0 0"/>
      <!-- Wheel rotation -->
      <geometry>
        <cylinder length="0.02" radius="0.032"/>
        <!-- 64mm dia, 20mm thick -->
      </geometry>
      <material name="copper"/>
    </visual>
    <collision>
      <geometry>
        <cylinder length="0.02" radius="0.04"/>
      </geometry>
    </collision>
    <inertial>
      <mass value="0.15"/>
      <inertia ixx="0.0002" ixy="0" ixz="0" iyy="0.0002" iyz="0" izz="0.0002"/>
    </inertial>
  </link>
  <!-- Joint to Base -->
  <joint name="wheel_240_joint" type="continuous">
    <parent link="base_link"/>
    <child link="wheel_240"/>
    <origin rpy="0 1.5708 -2.0944" xyz="-0.0625 -0.10825 -0.01"/>
    <axis xyz="0 0 1"/>
    <limit effort="10.0" velocity="10.0"/>
    <dynamics damping="0.1" friction="0.01"/>
  </joint>
  <!-- Roller 0: 0°, inside -->
  <link name="wheel_240_roller_0">
    <visual>
      <origin rpy="0 0 0" xyz="0 0 0"/>
      <geometry>
        <cylinder length="0.012" radius="0.006"/>
      </geometry>
      <material name="white"/>
    </visual>
    <collision>
      <geometry>
        <cylinder length="0.012" radius="0.006"/>
      </geometry>
    </collision>
    <inertial>
      <mass value="0.01"/>
      <inertia ixx="0.00001" ixy="0" ixz="0" iyy="0.00001" iyz="0" izz="0.00001"/>
    </inertial>
  </link>
  <joint name="wheel_240_roller_0_joint" type="continuous">
    <parent link="wheel_240"/>
    <child link="wheel_240_roller_0"/>
    <origin rpy="0 1.5708 0" xyz="0 0.04 -0.006"/>
    <axis xyz="0 0 1"/>
    <!-- Roller spins around its own axis -->
    <limit effort="0.0" velocity="0.0"/>
    <dynamics damping="0.01" friction="0.01"/>
  </joint>
  <!-- Roller 1: 22.5°, outnside -->
  <link name="wheel_240_roller_1">
    <visual>
      <origin rpy="0 0 0" xyz="0 0 0"/>
      <geometry>
        <cylinder length="0.012" radius="0.006"/>
      </geometry>
      <material name="white"/>
    </visual>
    <collision>
      <geometry>
        <cylinder length="0.012" radius="0.006"/>
      </geometry>
    </collision>
    <inertial>
      <mass value="0.01"/>
      <inertia ixx="0.00001" ixy="0" ixz="0" iyy="0.00001" iyz="0" izz="0.00001"/>
    </inertial>
  </link>
  <joint name="wheel_240_roller_1_joint" type="continuous">
    <parent link="wheel_240"/>
    <child link="wheel_240_roller_1"/>
    <origin rpy="0.3927 1.5708 0" xyz="0.015307200000000002 0.0369552 0.006"/>
    <axis xyz="0 0 1"/>
    <!-- Roller spins around its own axis -->
    <limit effort="0.0" velocity="0.0"/>
    <dynamics damping="0.01" friction="0.01"/>
  </joint>
  <!-- Roller 2: 45°, inside -->
  <link name="wheel_240_roller_2">
    <visual>
      <origin rpy="0 0 0" xyz="0 0 0"/>
      <geometry>
        <cylinder length="0.012" radius="0.006"/>
      </geometry>
      <material name="white"/>
    </visual>
    <collision>
      <geometry>
        <cylinder length="0.012" radius="0.006"/>
      </geometry>
    </collision>
    <inertial>
      <mass value="0.01"/>
      <inertia ixx="0.00001" ixy="0" ixz="0" iyy="0.00001" iyz="0" izz="0.00001"/>
    </inertial>
  </link>
  <joint name="wheel_240_roller_2_joint" type="continuous">
    <parent link="wheel_240"/>
    <child link="wheel_240_roller_2"/>
    <origin rpy="0.7854 1.5708 0" xyz="0.028284 0.028284 -0.006"/>
    <axis xyz="0 0 1"/>
    <limit effort="0.0" velocity="0.0"/>
    <dynamics damping="0.01" friction="0.01"/>
  </joint>
  <!-- Roller 3: 67.5°, outside -->
  <link name="wheel_240_roller_3">
    <visual>
      <origin rpy="0 0 0" xyz="0 0 0"/>
      <geometry>
        <cylinder length="0.012" radius="0.006"/>
      </geometry>
      <material name="white"/>
    </visual>
    <collision>
      <geometry>
        <cylinder length="0.012" radius="0.006"/>
      </geometry>
    </collision>
    <inertial>
      <mass value="0.01"/>
      <inertia ixx="0.00001" ixy="0" ixz="0" iyy="0.00001" iyz="0" izz="0.00001"/>
    </inertial>
  </link>
  <joint name="wheel_240_roller_3_joint" type="continuous">
    <parent link="wheel_240"/>
    <child link="wheel_240_roller_3"/>
    <origin rpy="1.1781 1.5708 0" xyz="0.0369552 0.015307200000000002 0.006"/>
    <axis xyz="0 0 1"/>
    <limit effort="0.0" velocity="0.0"/>
    <dynamics damping="0.01" friction="0.01"/>
  </joint>
  <!-- Roller 4: 90°, inside -->
  <link name="wheel_240_roller_4">
    <visual>
      <origin rpy="0 0 0" xyz="0 0 0"/>
      <geometry>
        <cylinder length="0.012" radius="0.006"/>
      </geometry>
      <material name="white"/>
    </visual>
    <collision>
      <geometry>
        <cylinder length="0.012" radius="0.006"/>
      </geometry>
    </collision>
    <inertial>
      <mass value="0.01"/>
      <inertia ixx="0.00001" ixy="0" ixz="0" iyy="0.00001" iyz="0" izz="0.00001"/>
    </inertial>
  </link>
  <joint name="wheel_240_roller_4_joint" type="continuous">
    <parent link="wheel_240"/>
    <child link="wheel_240_roller_4"/>
    <origin rpy="1.5708 1.5708 0" xyz="0.04 0 -0.006"/>
    <axis xyz="0 0 1"/>
    <limit effort="0.0" velocity="0.0"/>
    <dynamics damping="0.01" friction="0.01"/>
  </joint>
  <!-- Roller 5: 112.5°, outside -->
  <link name="wheel_240_roller_5">
    <visual>
      <origin rpy="0 0 0" xyz="0 0 0"/>
      <geometry>
        <cylinder length="0.012" radius="0.006"/>
      </geometry>
      <material name="white"/>
    </visual>
    <collision>
      <geometry>
        <cylinder length="0.012" radius="0.006"/>
      </geometry>
    </collision>
    <inertial>
      <mass value="0.01"/>
      <inertia ixx="0.00001" ixy="0" ixz="0" iyy="0.00001" iyz="0" izz="0.00001"/>
    </inertial>
  </link>
  <joint name="wheel_240_roller_5_joint" type="continuous">
    <parent link="wheel_240"/>
    <child link="wheel_240_roller_5"/>
    <origin rpy="1.9635 1.5708 0" xyz="0.0369552 -0.015307200000000002 0.006"/>
    <axis xyz="0 0 1"/>
    <limit effort="0.0" velocity="0.0"/>
    <dynamics damping="0.01" friction="0.01"/>
  </joint>
  <!-- Roller 6: 135°, inside -->
  <link name="wheel_240_roller_6">
    <visual>
      <origin rpy="0 0 0" xyz="0 0 0"/>
      <geometry>
        <cylinder length="0.012" radius="0.006"/>
      </geometry>
      <material name="white"/>
    </visual>
    <collision>
      <geometry>
        <cylinder length="0.012" radius="0.006"/>
      </geometry>
    </collision>
    <inertial>
      <mass value="0.01"/>
      <inertia ixx="0.00001" ixy="0" ixz="0" iyy="0.00001" iyz="0" izz="0.00001"/>
    </inertial>
  </link>
  <joint name="wheel_240_roller_6_joint" type="continuous">
    <parent link="wheel_240"/>
    <child link="wheel_240_roller_6"/>
    <origin rpy="2.3562 1.5708 0" xyz="0.028284 -0.028284 -0.006"/>
    <axis xyz="0 0 1"/>
    <limit effort="0.0" velocity="0.0"/>
    <dynamics damping="0.01" friction="0.01"/>
  </joint>
  <!-- Roller 7: 157.5°, outside -->
  <link name="wheel_240_roller_7">
    <visual>
      <origin rpy="0 0 0" xyz="0 0 0"/>
      <geometry>
        <cylinder length="0.012" radius="0.006"/>
      </geometry>
      <material name="white"/>
    </visual>
    <collision>
      <geometry>
        <cylinder length="0.012" radius="0.006"/>
      </geometry>
    </collision>
    <inertial>
      <mass value="0.01"/>
      <inertia ixx="0.00001" ixy="0" ixz="0" iyy="0.00001" iyz="0" izz="0.00001"/>
    </inertial>
  </link>
  <joint name="wheel_240_roller_7_joint" type="continuous">
    <parent link="wheel_240"/>
    <child link="wheel_240_roller_7"/>
    <origin rpy="2.7489 1.5708 0" xyz="0.015307200000000002 -0.0369552 0.006"/>
    <axis xyz="0 0 1"/>
    <limit effort="0.0" velocity="0.0"/>
    <dynamics damping="0.01" friction="0.01"/>
  </joint>
  <!-- Roller 8: 180°, inside -->
  <link name="wheel_240_roller_8">
    <visual>
      <origin rpy="0 0 0" xyz="0 0 0"/>
      <geometry>
        <cylinder length="0.012" radius="0.006"/>
      </geometry>
      <material name="white"/>
    </visual>
    <collision>
      <geometry>
        <cylinder length="0.012" radius="0.006"/>
      </geometry>
    </collision>
    <inertial>
      <mass value="0.01"/>
      <inertia ixx="0.00001" ixy="0" ixz="0" iyy="0.00001" iyz="0" izz="0.00001"/>
    </inertial>
  </link>
  <joint name="wheel_240_roller_8_joint" type="continuous">
    <parent link="wheel_240"/>
    <child link="wheel_240_roller_8"/>
    <origin rpy="0 1.5708 0" xyz="0 -0.04 -0.006"/>
    <axis xyz="0 0 1"/>
    <limit effort="0.0" velocity="0.0"/>
    <dynamics damping="0.01" friction="0.01"/>
  </joint>
  <!-- Roller 9: 202.5°, outside -->
  <link name="wheel_240_roller_9">
    <visual>
      <origin rpy="0 0 0" xyz="0 0 0"/>
      <geometry>
        <cylinder length="0.012" radius="0.006"/>
      </geometry>
      <material name="white"/>
    </visual>
    <collision>
      <geometry>
        <cylinder length="0.012" radius="0.006"/>
      </geometry>
    </collision>
    <inertial>
      <mass value="0.01"/>
      <inertia ixx="0.00001" ixy="0" ixz="0" iyy="0.00001" iyz="0" izz="0.00001"/>
    </inertial>
  </link>
  <joint name="wheel_240_roller_9_joint" type="continuous">
    <parent link="wheel_240"/>
    <child link="wheel_240_roller_9"/>
    <origin rpy="0.3927 1.5708 0" xyz="-0.015307200000000002 -0.0369552 0.006"/>
    <axis xyz="0 0 1"/>
    <limit effort="0.0" velocity="0.0"/>
    <dynamics damping="0.01" friction="0.01"/>
  </joint>
  <!-- Roller 10: 225°, inside -->
  <link name="wheel_240_roller_10">
    <visual>
      <origin rpy="0 0 0" xyz="0 0 0"/>
      <geometry>
        <cylinder length="0.012" radius="0.006"/>
      </geometry>
      <material name="white"/>
    </visual>
    <collision>
      <geometry>
        <cylinder length="0.012" radius="0.006"/>
      </geometry>
    </collision>
    <inertial>
      <mass value="0.01"/>
      <inertia ixx="0.00001" ixy="0" ixz="0" iyy="0.00001" iyz="0" izz="0.00001"/>
    </inertial>
  </link>
  <joint name="wheel_240_roller_10_joint" type="continuous">
    <parent link="wheel_240"/>
    <child link="wheel_240_roller_10"/>
    <origin rpy="0.7854 1.5708 0" xyz="-0.028284 -0.028284 -0.006"/>
    <axis xyz="0 0 1"/>
    <limit effort="0.0" velocity="0.0"/>
    <dynamics damping="0.01" friction="0.01"/>
  </joint>
  <!-- Roller 11: 247.5°, outside -->
  <link name="wheel_240_roller_11">
    <visual>
      <origin rpy="0 0 0" xyz="0 0 0"/>
      <geometry>
        <cylinder length="0.012" radius="0.006"/>
      </geometry>
      <material name="white"/>
    </visual>
    <collision>
      <geometry>
        <cylinder length="0.012" radius="0.006"/>
      </geometry>
    </collision>
    <inertial>
      <mass value="0.01"/>
      <inertia ixx="0.00001" ixy="0" ixz="0" iyy="0.00001" iyz="0" izz="0.00001"/>
    </inertial>
  </link>
  <joint name="wheel_240_roller_11_joint" type="continuous">
    <parent link="wheel_240"/>
    <child link="wheel_240_roller_11"/>
    <origin rpy="1.1781 1.5708 0" xyz="-0.0369552 -0.015307200000000002 0.006"/>
    <axis xyz="0 0 1"/>
    <limit effort="0.0" velocity="0.0"/>
    <dynamics damping="0.01" friction="0.01"/>
  </joint>
  <!-- Roller 12: 270°, inside -->
  <link name="wheel_240_roller_12">
    <visual>
      <origin rpy="0 0 0" xyz="0 0 0"/>
      <geometry>
        <cylinder length="0.012" radius="0.006"/>
      </geometry>
      <material name="white"/>
    </visual>
    <collision>
      <geometry>
        <cylinder length="0.012" radius="0.006"/>
      </geometry>
    </collision>
    <inertial>
      <mass value="0.01"/>
      <inertia ixx="0.00001" ixy="0" ixz="0" iyy="0.00001" iyz="0" izz="0.00001"/>
    </inertial>
  </link>
  <joint name="wheel_240_roller_12_joint" type="continuous">
    <parent link="wheel_240"/>
    <child link="wheel_240_roller_12"/>
    <origin rpy="1.5708 1.5708 0" xyz="-0.04 0 -0.006"/>
    <axis xyz="0 0 1"/>
    <limit effort="0.0" velocity="0.0"/>
    <dynamics damping="0.01" friction="0.01"/>
  </joint>
  <!-- Roller 13: 292.5°, outside -->
  <link name="wheel_240_roller_13">
    <visual>
      <origin rpy="0 0 0" xyz="0 0 0"/>
      <geometry>
        <cylinder length="0.012" radius="0.006"/>
      </geometry>
      <material name="white"/>
    </visual>
    <collision>
      <geometry>
        <cylinder length="0.012" radius="0.006"/>
      </geometry>
    </collision>
    <inertial>
      <mass value="0.01"/>
      <inertia ixx="0.00001" ixy="0" ixz="0" iyy="0.00001" iyz="0" izz="0.00001"/>
    </inertial>
  </link>
  <joint name="wheel_240_roller_13_joint" type="continuous">
    <parent link="wheel_240"/>
    <child link="wheel_240_roller_13"/>
    <origin rpy="1.9635 1.5708 0" xyz="-0.0369552 0.015307200000000002 0.006"/>
    <axis xyz="0 0 1"/>
    <limit effort="0.0" velocity="0.0"/>
    <dynamics damping="0.01" friction="0.01"/>
  </joint>
  <!-- Roller 14: 315°, inside -->
  <link name="wheel_240_roller_14">
    <visual>
      <origin rpy="0 0 0" xyz="0 0 0"/>
      <geometry>
        <cylinder length="0.012" radius="0.006"/>
      </geometry>
      <material name="white"/>
    </visual>
    <collision>
      <geometry>
        <cylinder length="0.012" radius="0.006"/>
      </geometry>
    </collision>
    <inertial>
      <mass value="0.01"/>
      <inertia ixx="0.00001" ixy="0" ixz="0" iyy="0.00001" iyz="0" izz="0.00001"/>
    </inertial>
  </link>
  <joint name="wheel_240_roller_14_joint" type="continuous">
    <parent link="wheel_240"/>
    <child link="wheel_240_roller_14"/>
    <origin rpy="2.3562 1.5708 0" xyz="-0.028284 0.028284 -0.006"/>
    <axis xyz="0 0 1"/>
    <limit effort="0.0" velocity="0.0"/>
    <dynamics damping="0.01" friction="0.01"/>
  </joint>
  <!-- Roller 15: 337.5°, outside -->
  <link name="wheel_240_roller_15">
    <visual>
      <origin rpy="0 0 0" xyz="0 0 0"/>
      <geometry>
        <cylinder length="0.012" radius="0.006"/>
      </geometry>
      <material name="white"/>
    </visual>
    <collision>
      <geometry>
        <cylinder length="0.012" radius="0.006"/>
      </geometry>
    </collision>
    <inertial>
      <mass value="0.01"/>
      <inertia ixx="0.00001" ixy="0" ixz="0" iyy="0.00001" iyz="0" izz="0.00001"/>
    </inertial>
  </link>
  <joint name="wheel_240_roller_15_joint" type="continuous">
    <parent link="wheel_240"/>
    <child link="wheel_240_roller_15"/>
    <origin rpy="2.7489 1.5708 0" xyz="-0.015307200000000002 0.0369552 0.006"/>
    <axis xyz="0 0 1"/>
    <limit effort="0.0" velocity="0.0"/>
    <dynamics damping="0.01" friction="0.01"/>
  </joint>
  <!-- 240° -->
  <!-- WEBOTS SPECIFIC TAGS -->
  <webots>
    <device reference="wheel_0_joint" type="RotationalMotor"/>
    <device reference="wheel_120_joint" type="RotationalMotor"/>
    <device reference="wheel_240_joint" type="RotationalMotor"/>
    <plugin type="omni_1_webots.motor_driver.MotorDriver"/>
  </webots>
</robot>
